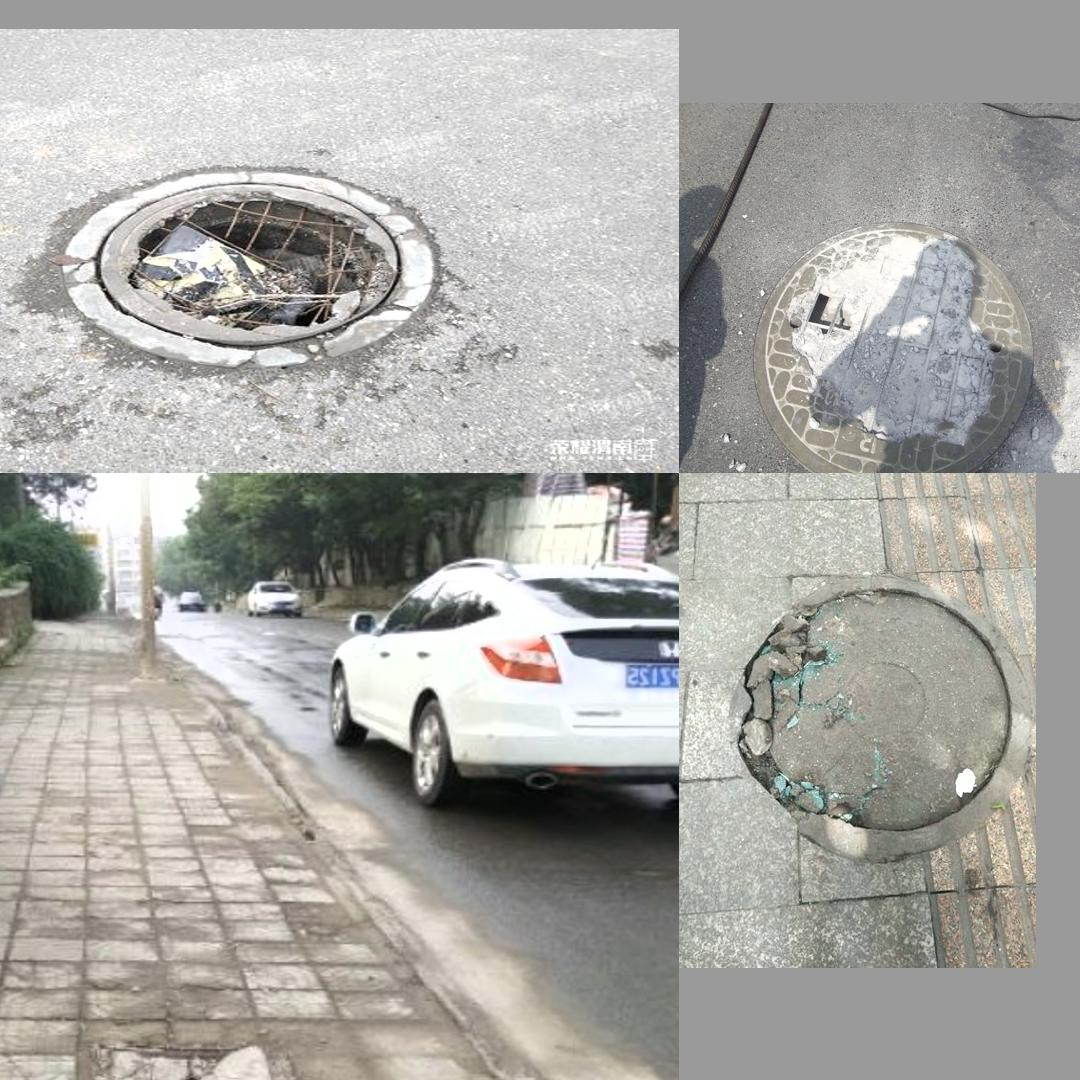broke: (721, 572, 1030, 864), (51, 156, 451, 368), (751, 219, 1035, 473), (77, 1038, 309, 1080)
